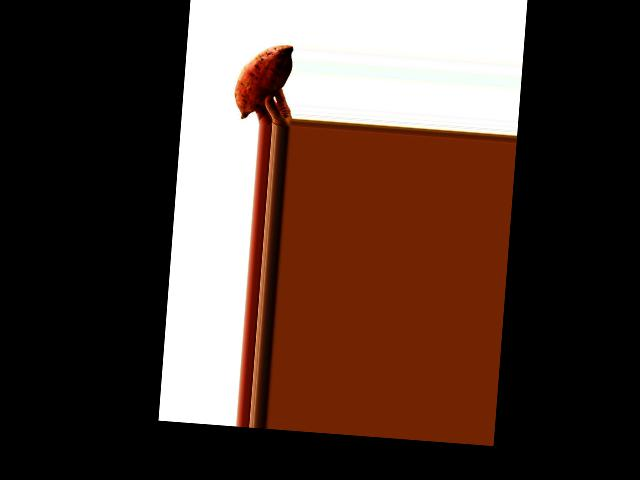sweet_potato: (228, 39, 296, 119)
